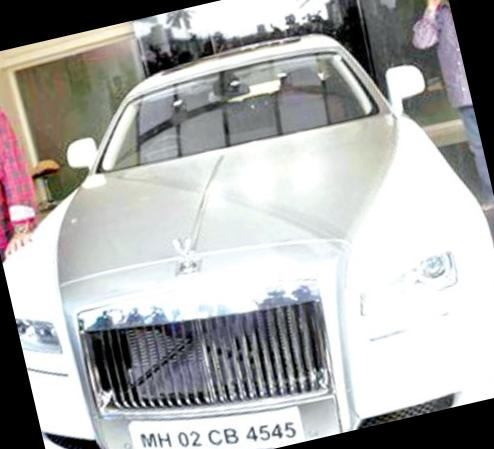plate: (119, 368, 337, 449)
